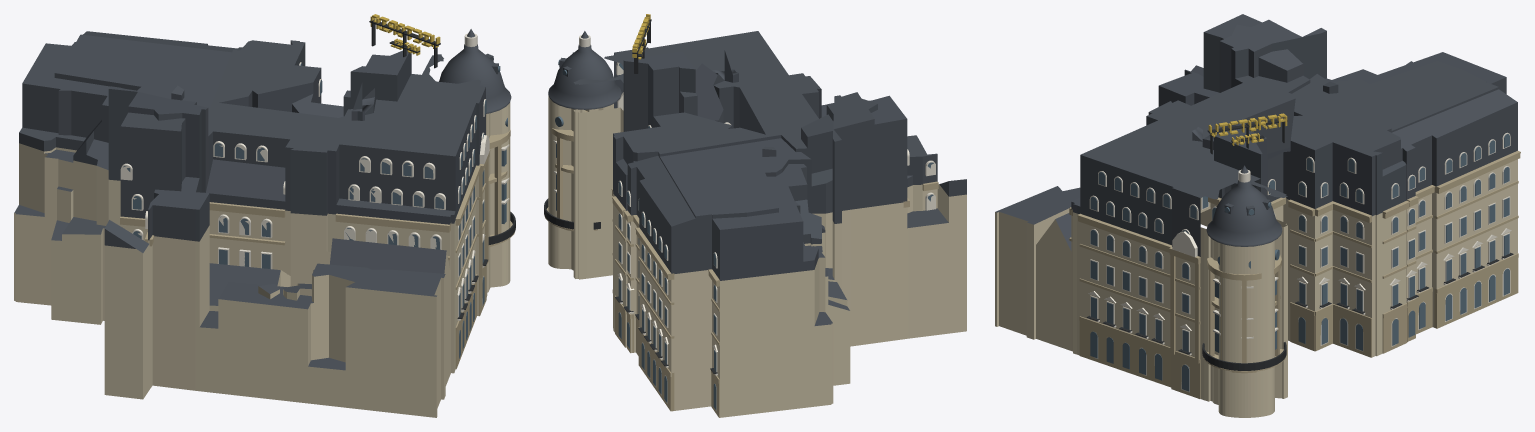
Rendered from victoria-hotel.glb.
The picture shows the model from 3 angles, left to right: view 1: azimuth 30°, elevation 25°; view 2: azimuth 150°, elevation 25°; view 3: azimuth 270°, elevation 25°; orthographic projection. The views are drawn at different scales.
Visible parts, largest first — view 1: victoria-hotel; view 2: victoria-hotel; view 3: victoria-hotel.
Part boxes in pixels (left/top/right/bottom): victoria-hotel: left=14, top=14, right=515, bottom=417; victoria-hotel: left=544, top=14, right=966, bottom=417; victoria-hotel: left=995, top=14, right=1520, bottom=417.
Size of the model in its own units: 53.96 by 32.16 by 60.45.
